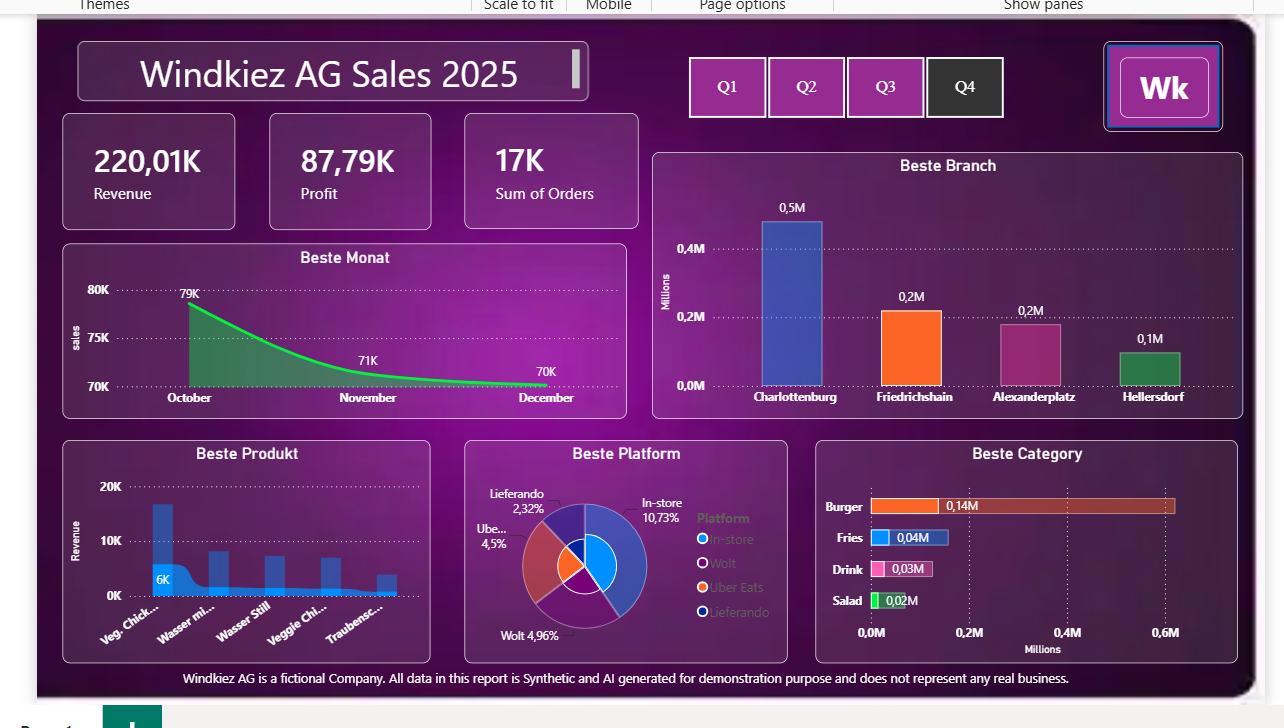

This screenshot's page, from the dashboard's own definition file:
{"tool":"powerbi","page":{"name":"Page 1","canvas":[1280,720],"ordinal":0},"visuals":[{"type":"cardVisual","fields":{"Data":["Fact_Costs.Revenue"]},"box":[26.6,103.2,179.7,121.9],"z":0},{"type":"cardVisual","fields":{"Data":["Sum(Fact_DayPart.Orders)"]},"box":[446,103.9,181.4,120.9],"z":1000},{"type":"columnChart","title":"Beste Branch ","fields":{"Category":["Dim_Branch.BranchName"],"Y":["Sum(Fact_DayPart.RevenueEUR)"]},"box":[640.6,143.6,616.1,277.8],"z":2000},{"type":"slicer","fields":{"Values":["Dim_Date.Quarter"]},"box":[653.9,37.8,378,77.5],"z":3000},{"type":"pieChart","title":"Beste Platform ","fields":{"Category":["Dim_Channel.Platform"],"Y":["Sum(Fact_DayPart.RevenueEUR)"]},"box":[446,444.1,336.4,232.4],"z":4000},{"type":"textbox","box":[41.6,28.3,532.9,62.4],"z":5000},{"type":"clusteredBarChart","title":"Beste Category ","fields":{"Category":["Dim_Product.Category"],"Y":["Sum(Fact_Sales.GrossRevenueEUR)"]},"box":[810.7,444.1,440.3,232.4],"z":6000},{"type":"cardVisual","fields":{"Data":["Fact_Costs.Profit"]},"box":[242.3,103.2,168.8,121.9],"z":7000},{"type":"areaChart","title":"Beste Monat","fields":{"Category":["Dim_Date.MonthName"],"Y":["Fact_Costs.Revenue"]},"box":[26.6,239.1,587.7,182.9],"z":8000},{"type":"ribbonChart","title":"Beste Produkt ","fields":{"Category":["Dim_Product.ProductName"],"Y":["Fact_Costs.Revenue"]},"box":[26.5,444.1,383.6,232.4],"z":9000},{"type":"shape","box":[1111.2,28.3,124.7,94.5],"z":10000},{"type":"textbox","box":[1128.2,45.4,92.6,62.4],"z":11000},{"type":"textbox","box":[147.4,676.5,1073.4,28.3],"z":12000}]}

Visuals, with their boxes in screenshot pixels (x1, y1, x2, y2):
cardVisual - Fact_Costs.Revenue: x1=33, y1=129, x2=211, y2=249
cardVisual - Sum(Fact_DayPart.Orders): x1=448, y1=130, x2=627, y2=249
"Beste Branch " columnChart: x1=640, y1=169, x2=1250, y2=444
slicer - Dim_Date.Quarter: x1=654, y1=64, x2=1028, y2=141
"Beste Platform " pieChart: x1=448, y1=466, x2=781, y2=696
textbox: x1=48, y1=55, x2=575, y2=116
"Beste Category " clusteredBarChart: x1=809, y1=466, x2=1244, y2=696
cardVisual - Fact_Costs.Profit: x1=246, y1=129, x2=413, y2=249
"Beste Monat" areaChart: x1=33, y1=263, x2=614, y2=444
"Beste Produkt " ribbonChart: x1=33, y1=466, x2=412, y2=696
shape: x1=1106, y1=55, x2=1229, y2=148
textbox: x1=1123, y1=72, x2=1214, y2=133
textbox: x1=153, y1=696, x2=1214, y2=724
